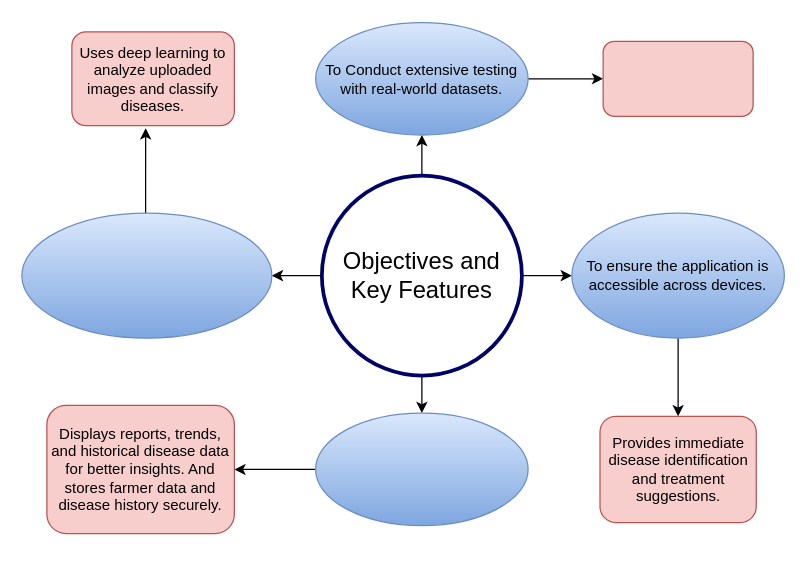
Image size: 806x573. Some labels were removed from this diagram. Here are the shapes that lost their labels. From the top down, the centre of each, then its label:
At point 677,78: "Supports multiple users and a growing dataset efficiently.".
At point 146,275: "To train a model to accurately classify rice diseases using image processing.".
At point 421,469: "To develop an intuitive and simple UI for easy disease detection.".
